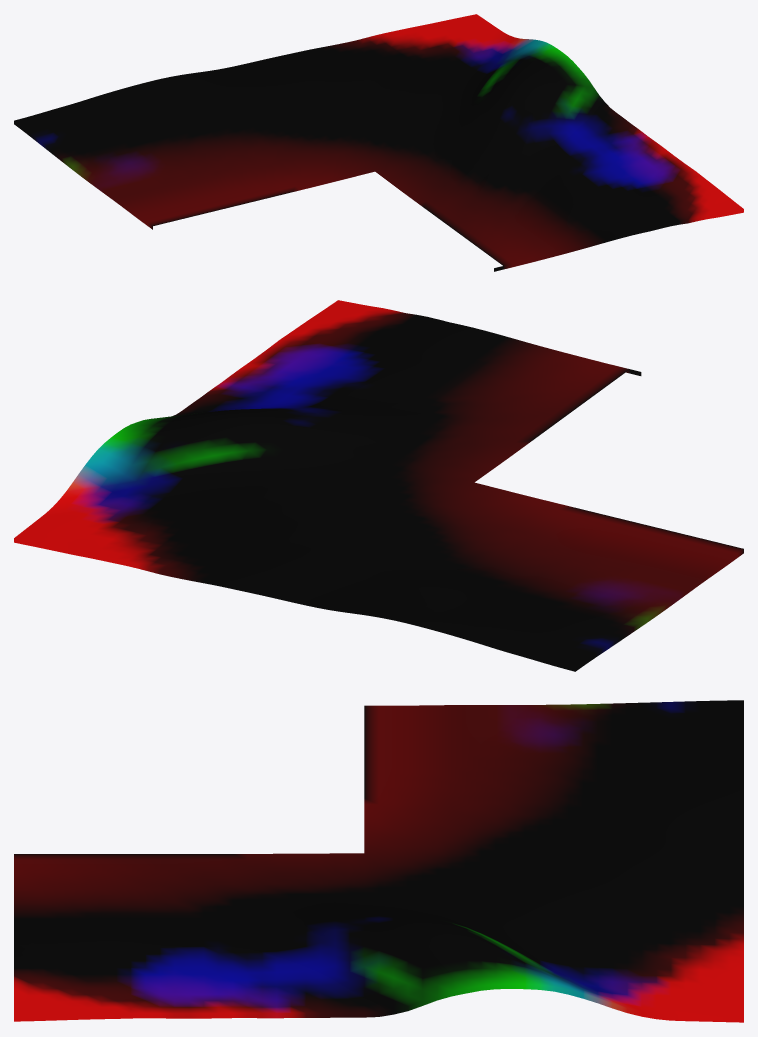
File: coast_13_10.glb
The picture shows the model from 3 angles, top to bottom: view 1: azimuth 30°, elevation 25°; view 2: azimuth 150°, elevation 25°; view 3: azimuth 270°, elevation 25°; orthographic projection. The views are drawn at different scales.
Visible parts, largest first — view 1: terrain; view 2: terrain; view 3: terrain.
Part boxes in pixels (left/top/right/bottom): terrain: left=14, top=14, right=743, bottom=271; terrain: left=14, top=300, right=743, bottom=671; terrain: left=14, top=700, right=743, bottom=1022.
Size of the model in its own units: 200 by 14.42 by 200.
